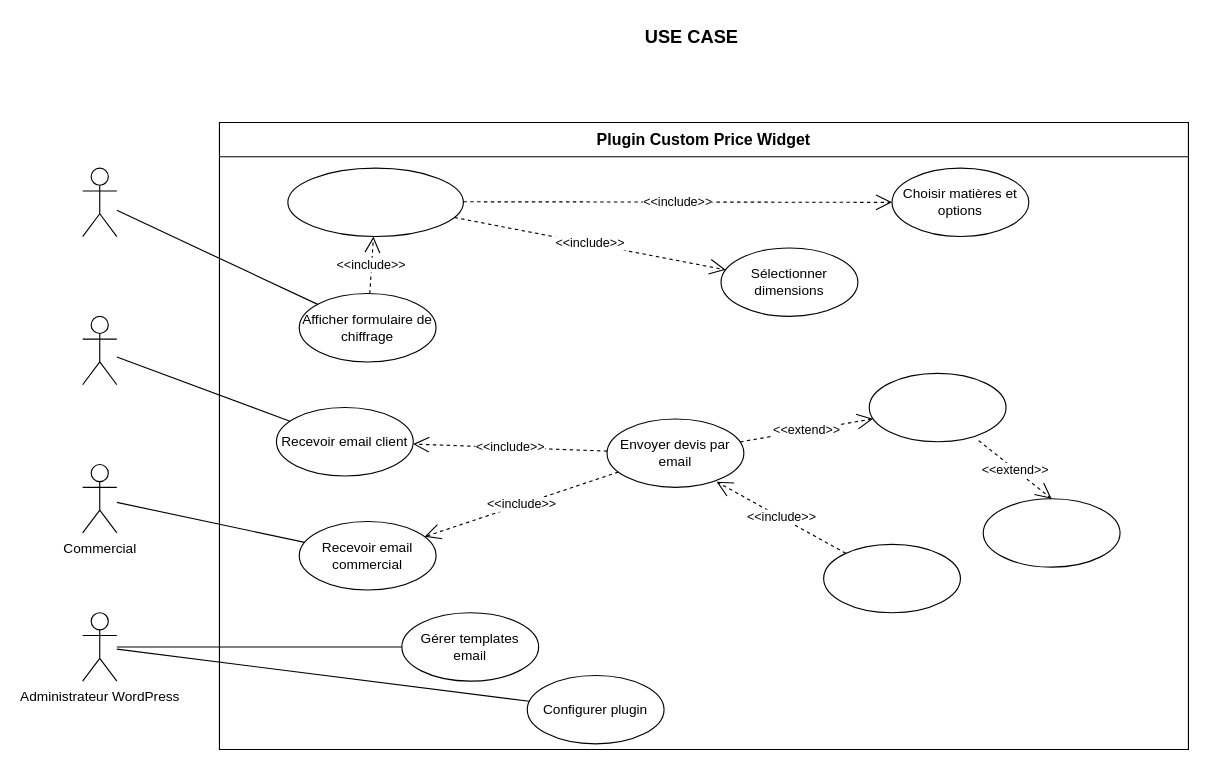
Image size: 1208x770. Some labels were removed from this diagram. The shapes that lost their labels are listed below. From the top down, each one's box as (x1, y1, x2, y2) in pixels, then its label:
(82, 167, 117, 237): Visiteur
(287, 167, 463, 237): Configurer produit (Pergola/Rideau/Brise-Vue/Voile)
(82, 315, 117, 385): Client
(868, 372, 1006, 442): Calculer prix automatiquement
(982, 498, 1120, 567): Ajouter au panier WooCommerce
(823, 543, 960, 613): Saisir informations client
